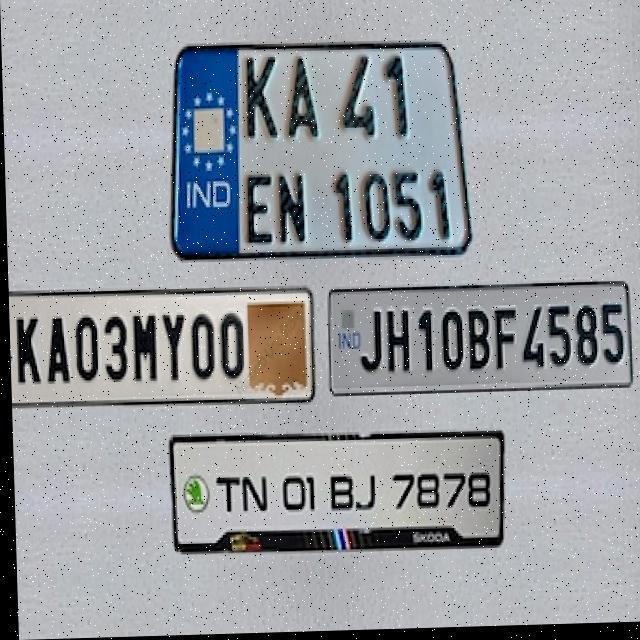plate: (163, 35, 474, 269), (165, 426, 504, 562), (7, 279, 312, 414), (321, 279, 633, 404)
